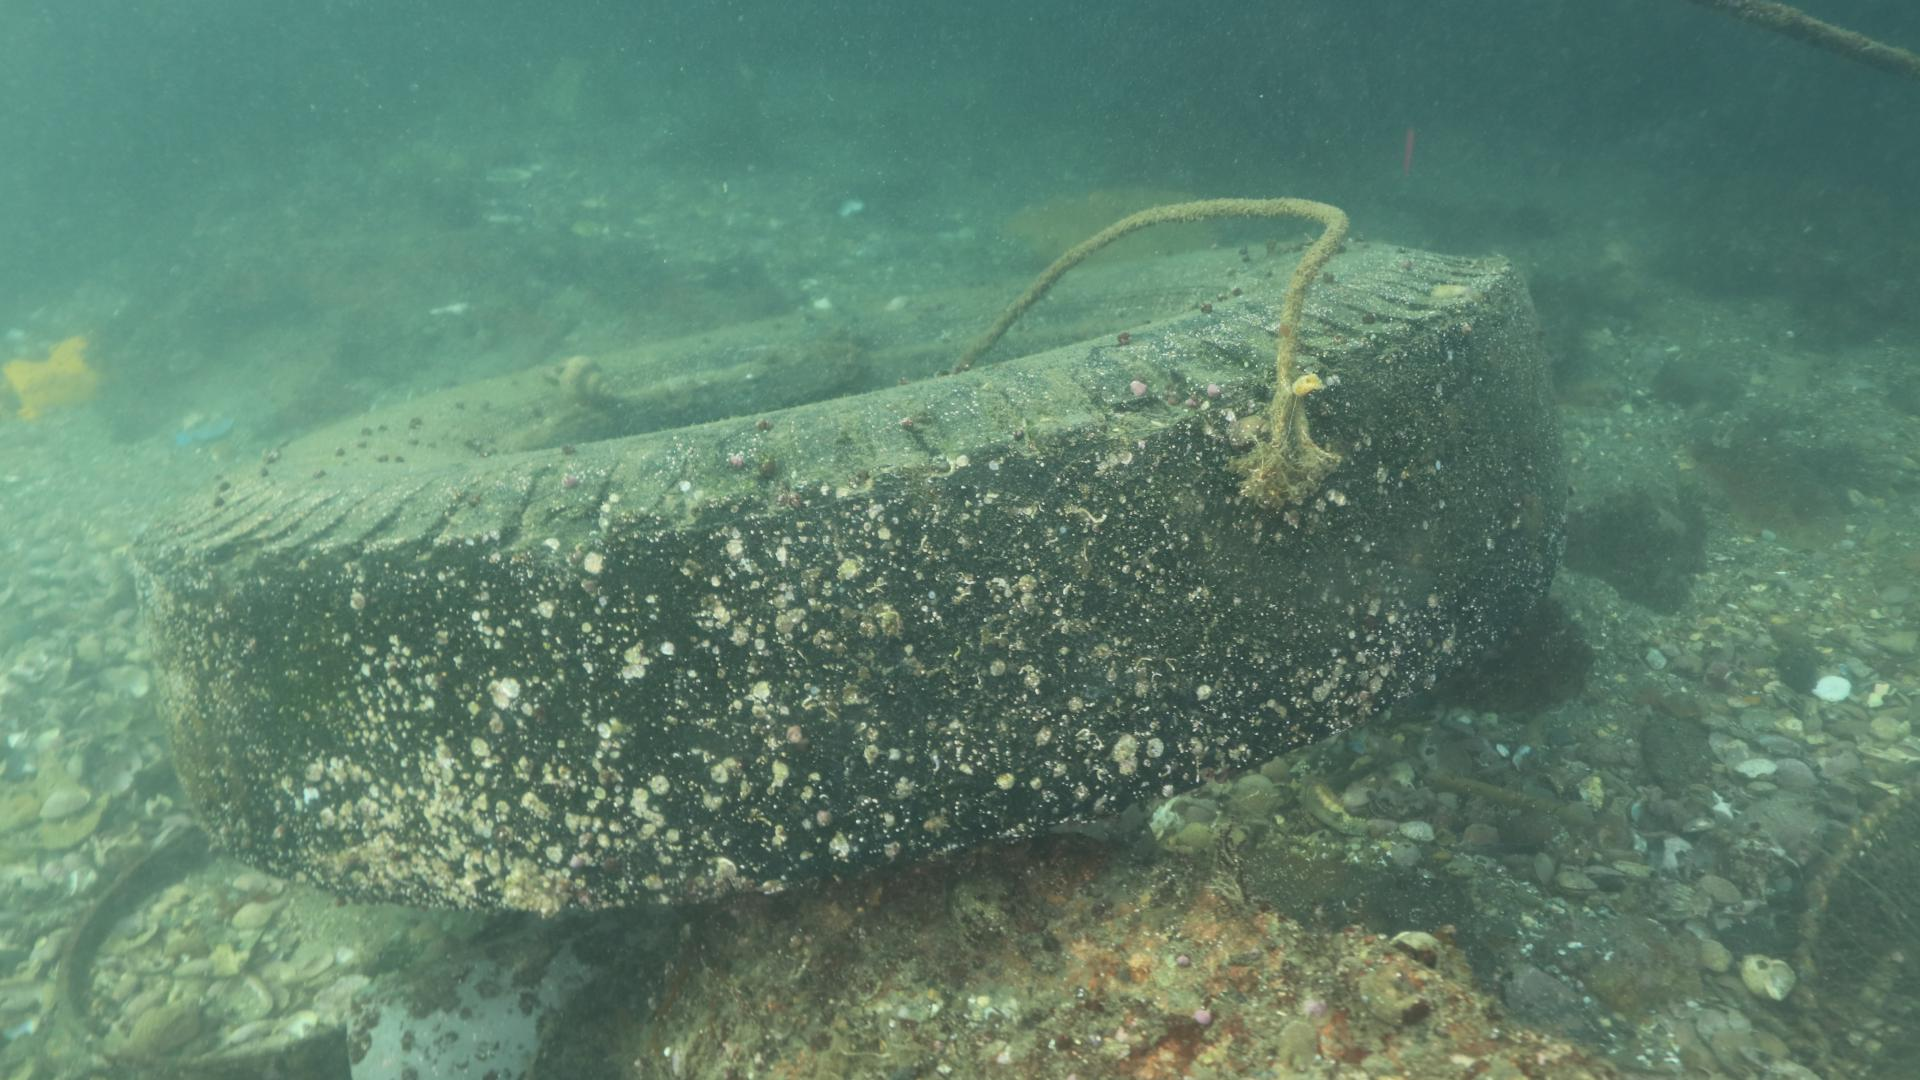rope: (951, 195, 1346, 382)
tire: (127, 237, 1565, 914)
